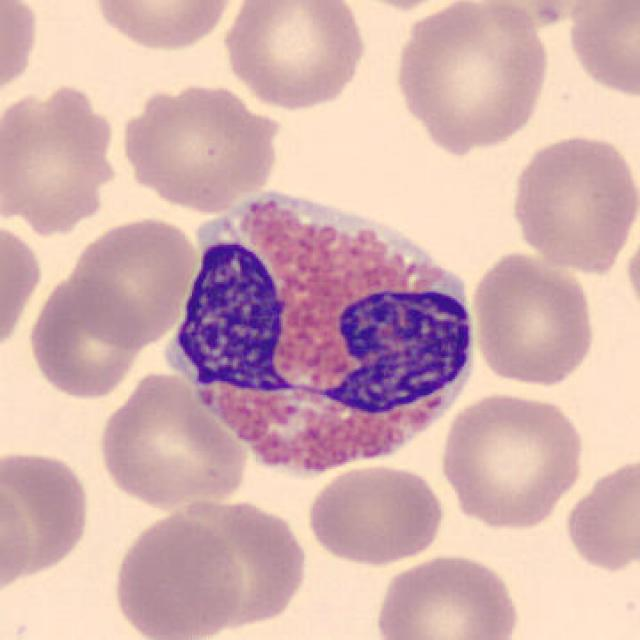Eosinophil: (153, 171, 489, 495)
RBC: (389, 0, 553, 155), (94, 367, 251, 513), (115, 78, 282, 214), (436, 388, 588, 531), (505, 129, 638, 275), (160, 497, 307, 625), (469, 247, 599, 388), (108, 509, 245, 640), (0, 75, 112, 233), (68, 212, 199, 346), (218, 0, 369, 113), (25, 266, 147, 402), (304, 460, 448, 568), (370, 550, 524, 640), (0, 446, 94, 587), (560, 453, 638, 577), (87, 0, 240, 53), (562, 0, 640, 102), (0, 213, 43, 358), (460, 0, 607, 33), (0, 0, 43, 111), (0, 471, 36, 601), (622, 218, 640, 332), (334, 0, 472, 12)
